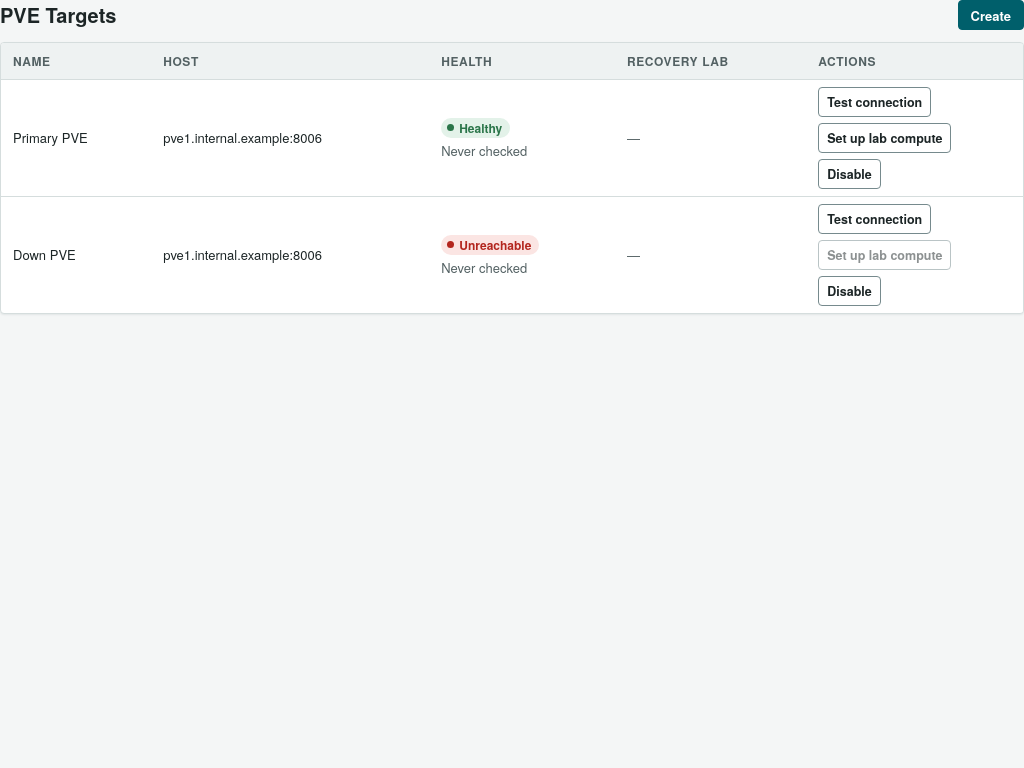
Test: PveClustersPage lab compute setup › enables the setup button only for connected clusters and opens the guided flow
The width and height of the screenshot is (1024, 768).
Expected: the text "Down PVE" is shown, [1,196,151,313]
Expected: the button "Set up lab compute" in the row of "Down PVE" is disabled, [818,240,952,270]
Click the button "Set up lab compute" in the row of "Primary PVE".
click(885, 138)  # box [818,123,952,153]
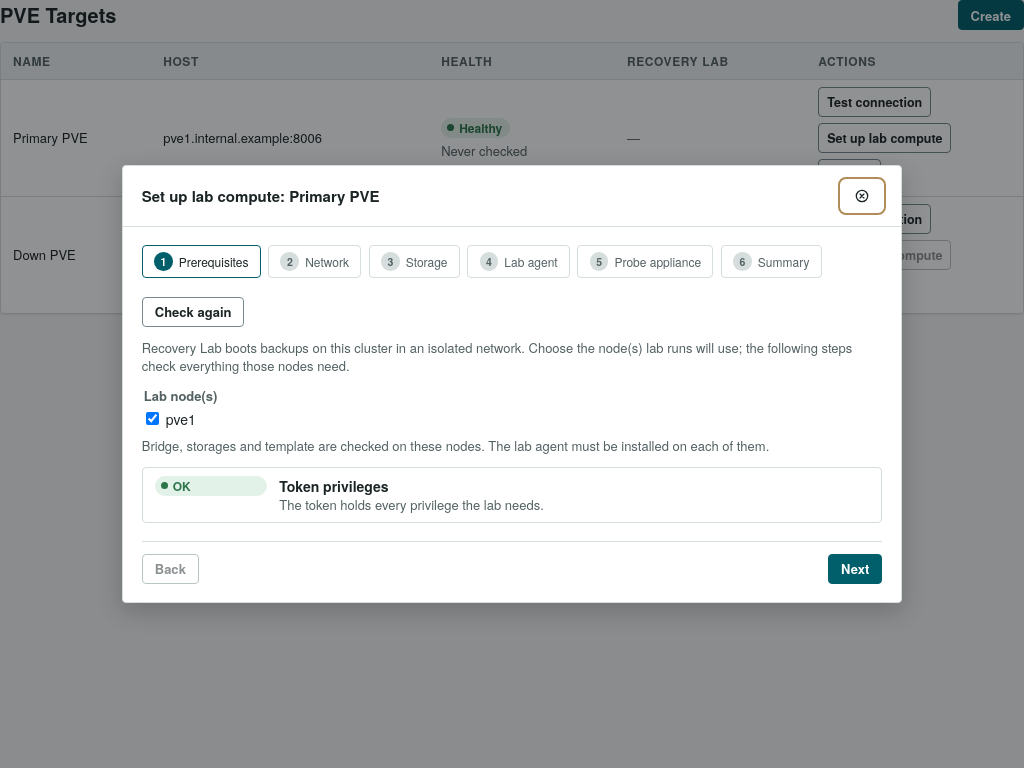
Expected: the dialog "Set up lab compute: Primary PVE" is shown, [122,165,902,603]
